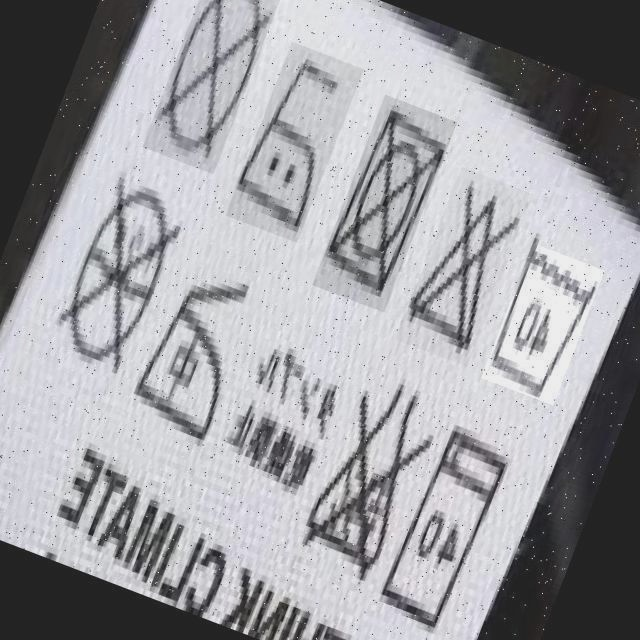40C: (380, 453, 517, 623), (496, 244, 584, 400)
DN_bleach: (409, 194, 498, 355)
DN_dry_clean: (138, 1, 265, 158), (67, 182, 167, 357)
DN_tumble_dry: (348, 111, 442, 270)
iron: (119, 285, 247, 421)
iron_medium: (237, 63, 344, 223)
